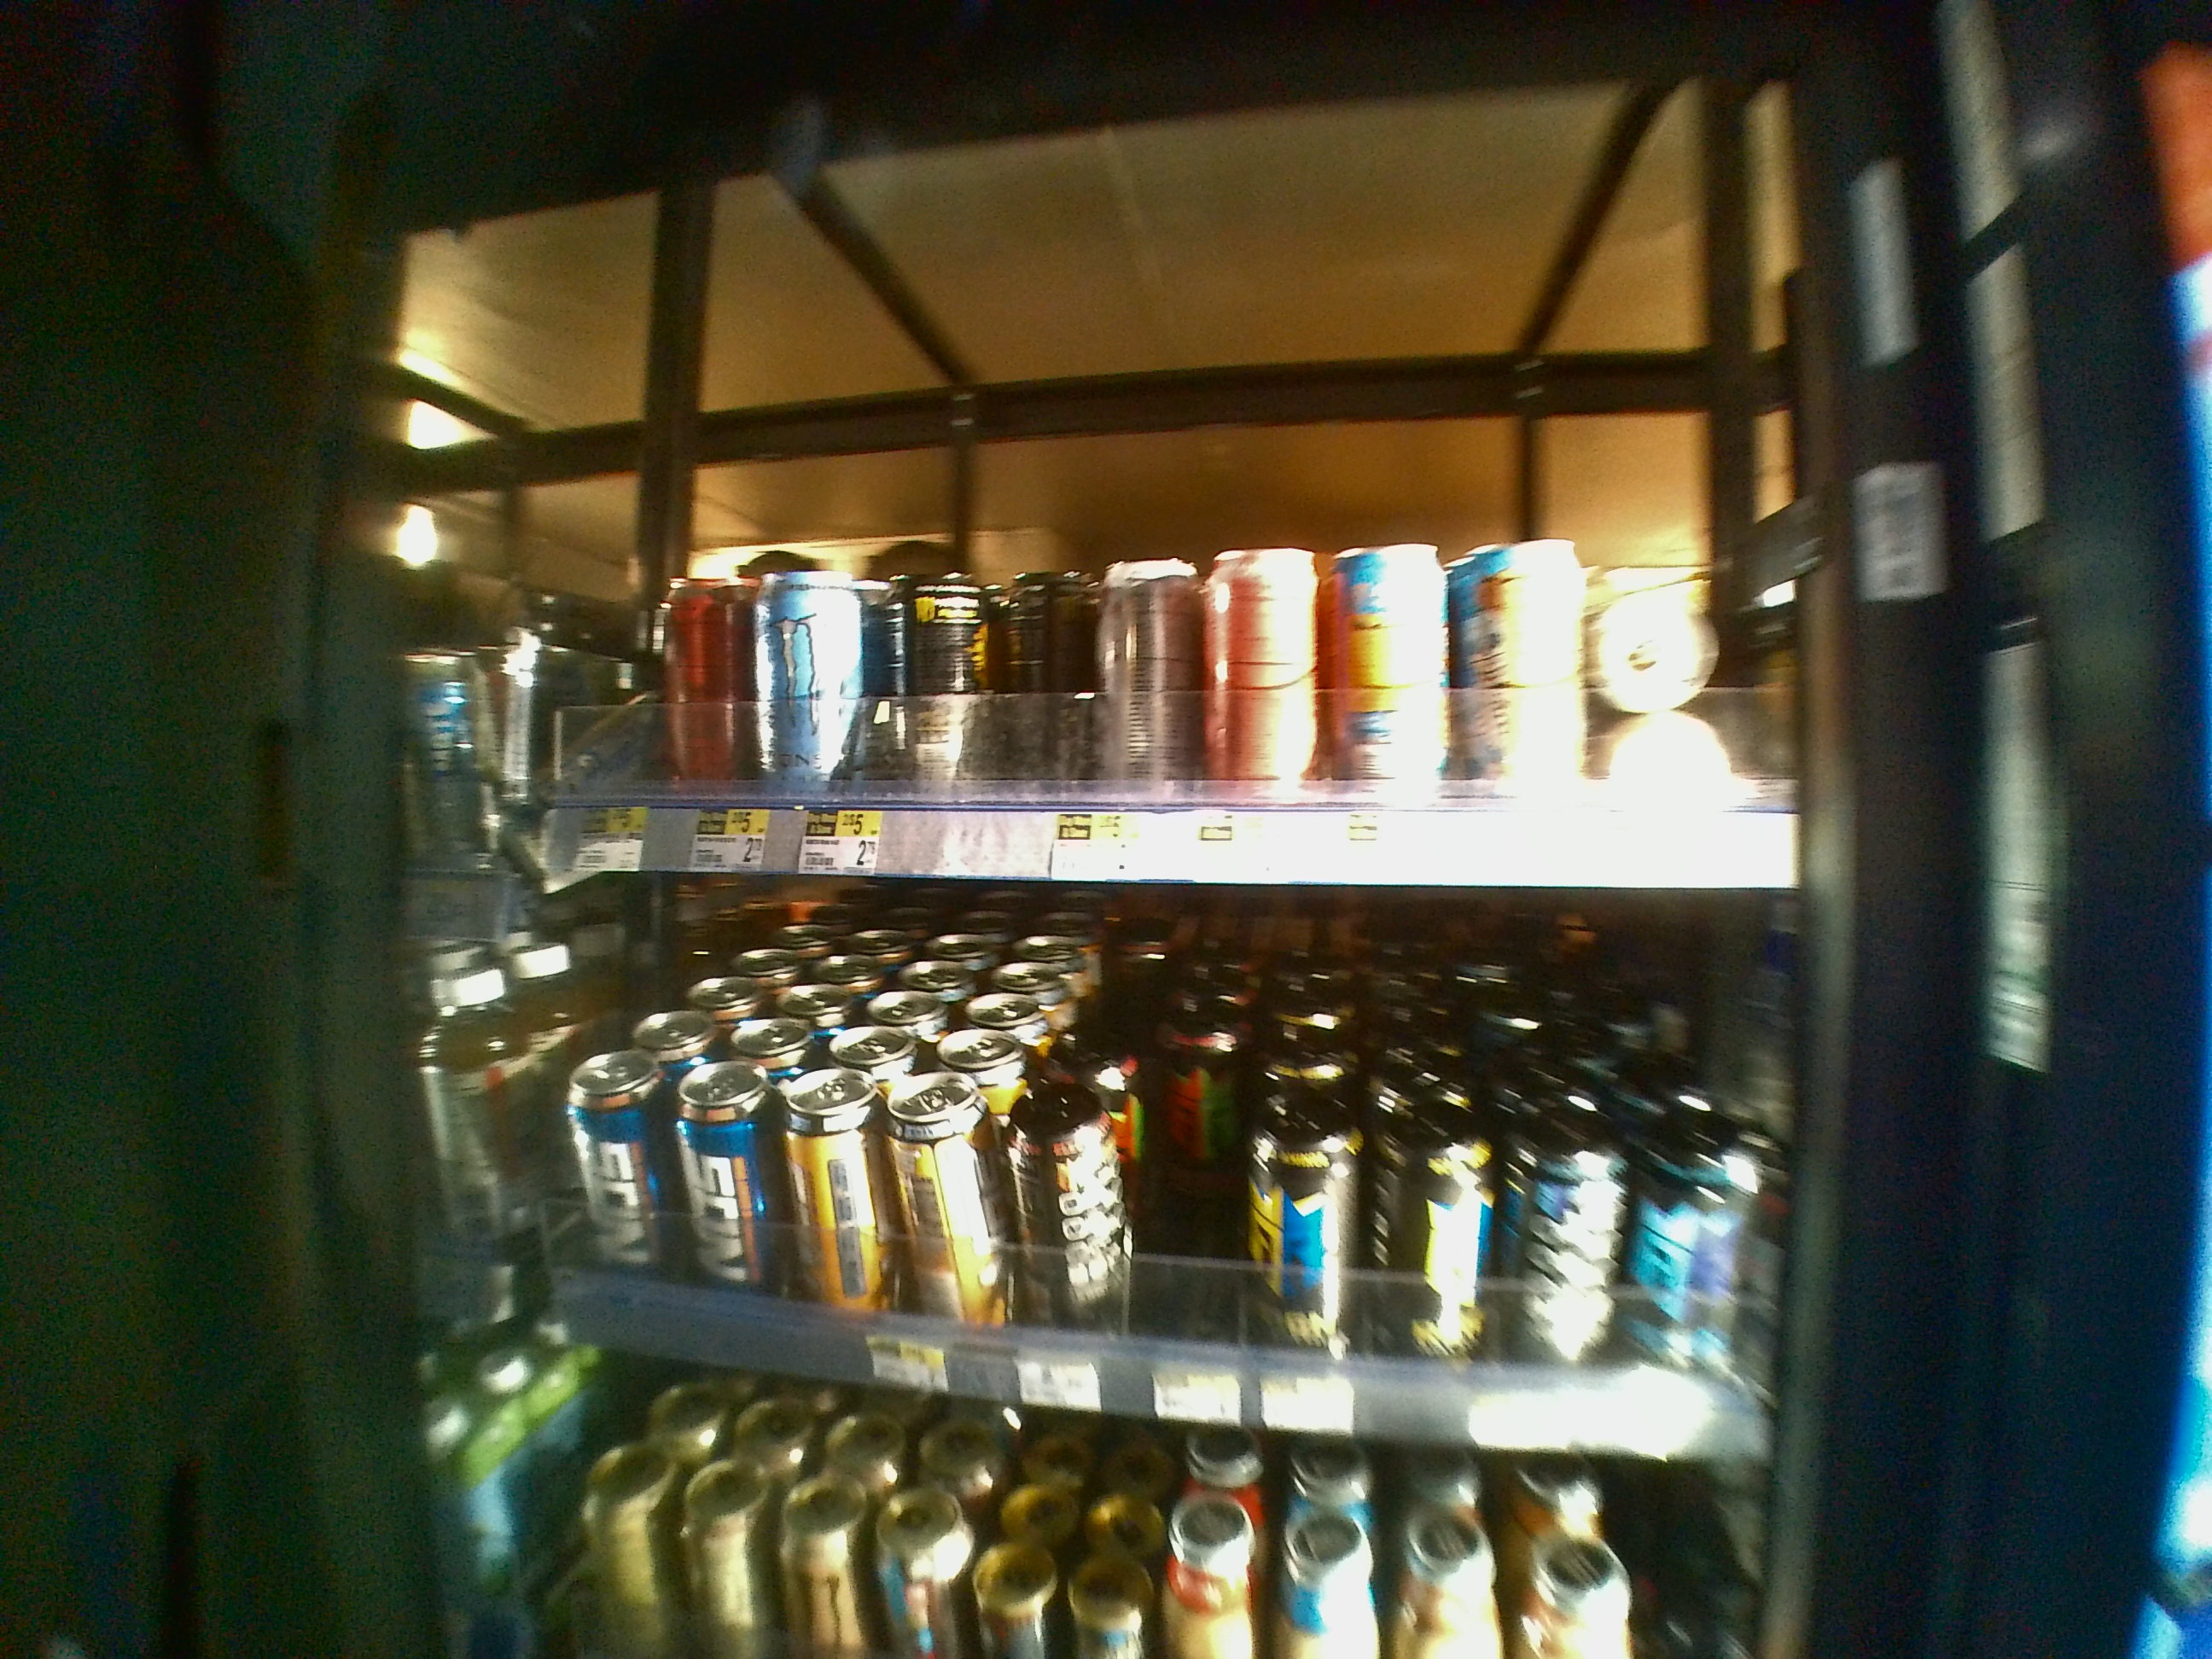shelf: (399, 115, 1832, 890)
